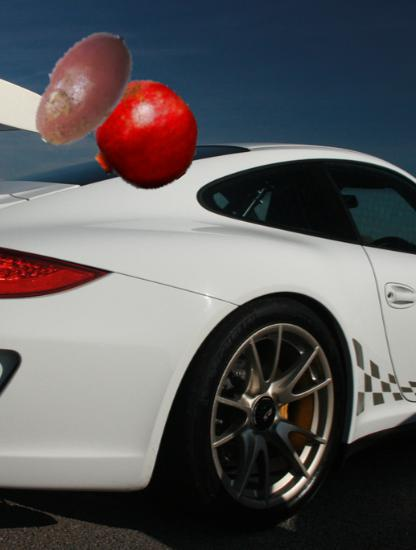Pomegranate: (89, 81, 200, 192)
Potato: (18, 24, 149, 155)
